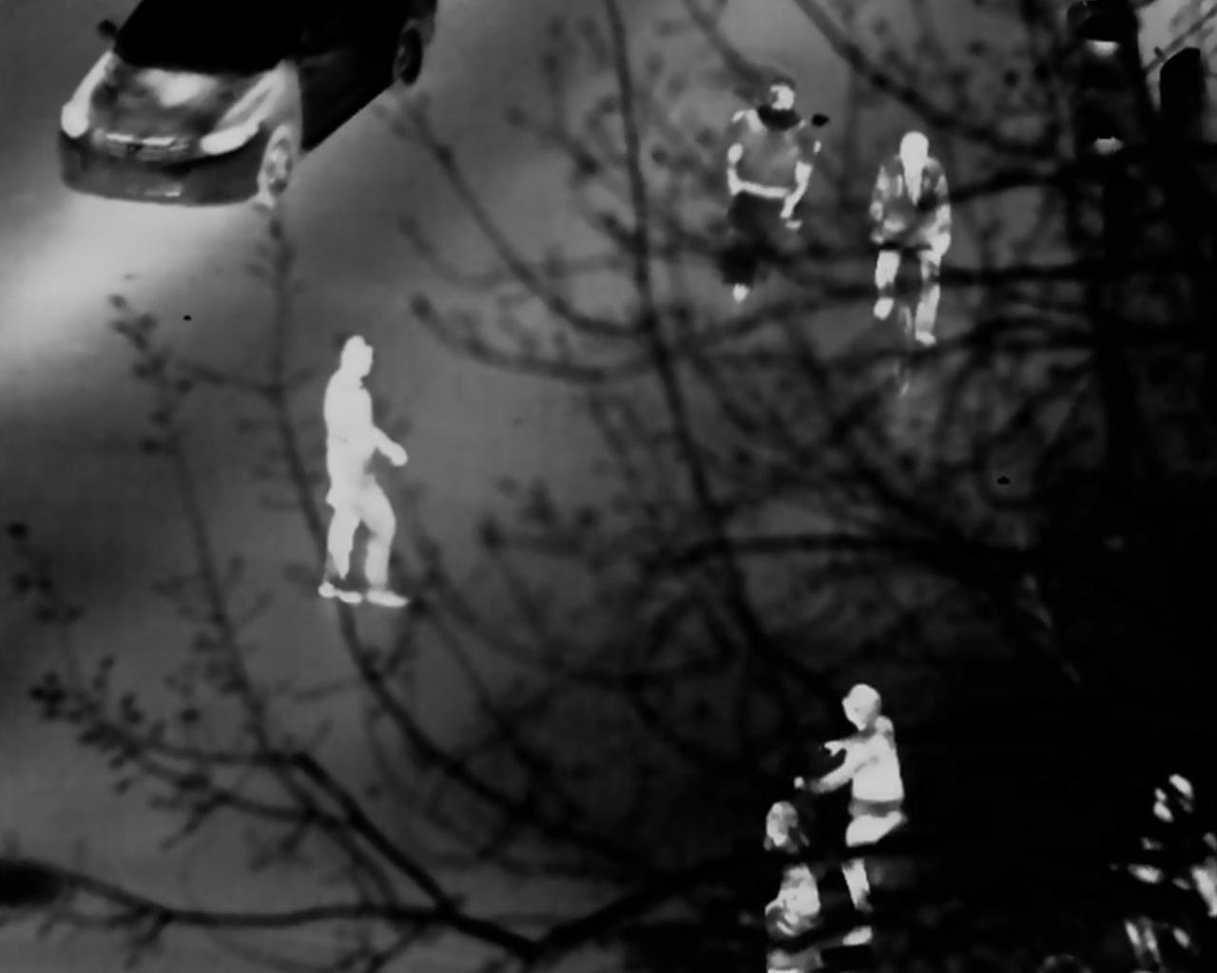person: (310, 329, 408, 620), (863, 134, 956, 348), (831, 682, 906, 926), (722, 75, 821, 236), (757, 797, 837, 965)
